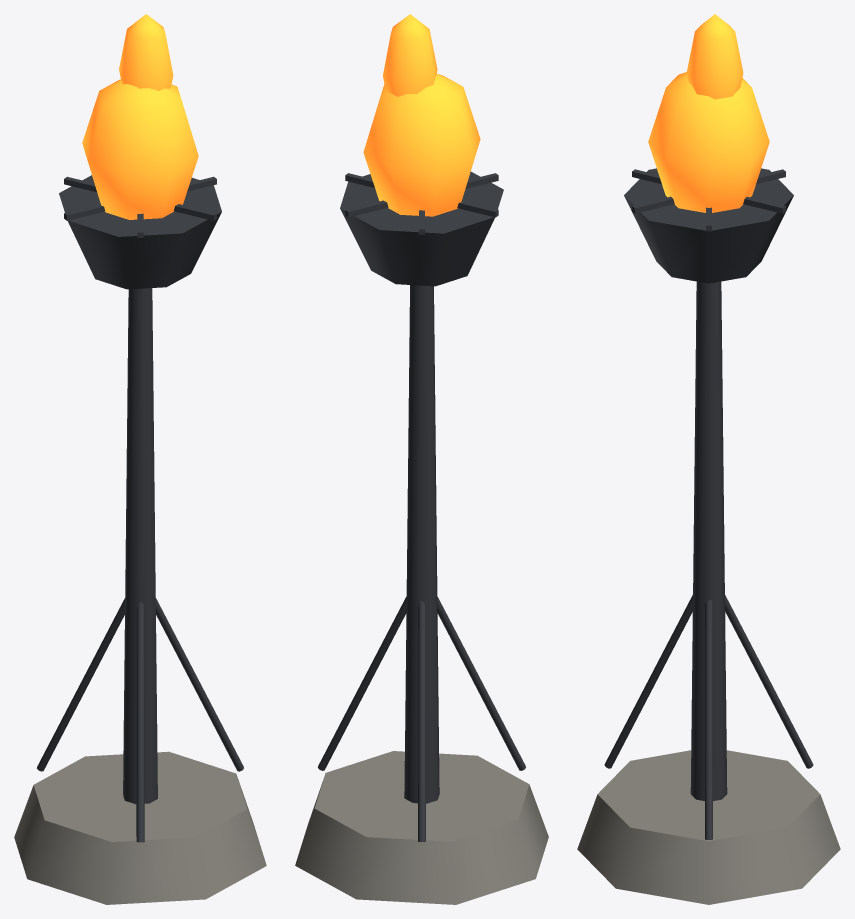
File: fire-beacon-lod1.glb
The picture shows the model from 3 angles, left to right: view 1: azimuth 30°, elevation 25°; view 2: azimuth 150°, elevation 25°; view 3: azimuth 270°, elevation 25°; orthographic projection.
Visible parts, largest first — view 1: plinth, mast, fire, brazier, stay-rod (×3), fire-tip, grate-2, grate-0; view 2: plinth, mast, fire, brazier, stay-rod (×3), fire-tip, grate-1, grate-0; view 3: plinth, mast, fire, brazier, stay-rod (×3), fire-tip, grate-2, grate-1.
Boxes of the visible parts, bbox=[...] form: plinth: bbox=[14, 751, 266, 904]; mast: bbox=[123, 288, 157, 804]; fire: bbox=[82, 79, 198, 219]; brazier: bbox=[59, 175, 221, 289]; stay-rod (×3): bbox=[37, 598, 243, 842]; fire-tip: bbox=[119, 14, 173, 90]; grate-2: bbox=[64, 176, 216, 220]; grate-0: bbox=[64, 176, 216, 220]; plinth: bbox=[295, 751, 548, 904]; mast: bbox=[404, 285, 439, 803]; fire: bbox=[363, 74, 480, 216]; brazier: bbox=[340, 171, 503, 286]; stay-rod (×3): bbox=[318, 596, 525, 841]; fire-tip: bbox=[383, 14, 437, 96]; grate-1: bbox=[345, 173, 498, 217]; grate-0: bbox=[345, 173, 498, 217]; plinth: bbox=[577, 750, 840, 904]; mast: bbox=[690, 281, 727, 800]; fire: bbox=[648, 72, 769, 212]; brazier: bbox=[624, 168, 793, 283]; stay-rod (×3): bbox=[604, 595, 813, 839]; fire-tip: bbox=[686, 14, 743, 99]; grate-2: bbox=[632, 169, 785, 213]; grate-1: bbox=[632, 169, 785, 213].
Bounding box in the file's own units: 1.3 × 4.57 × 1.3.
